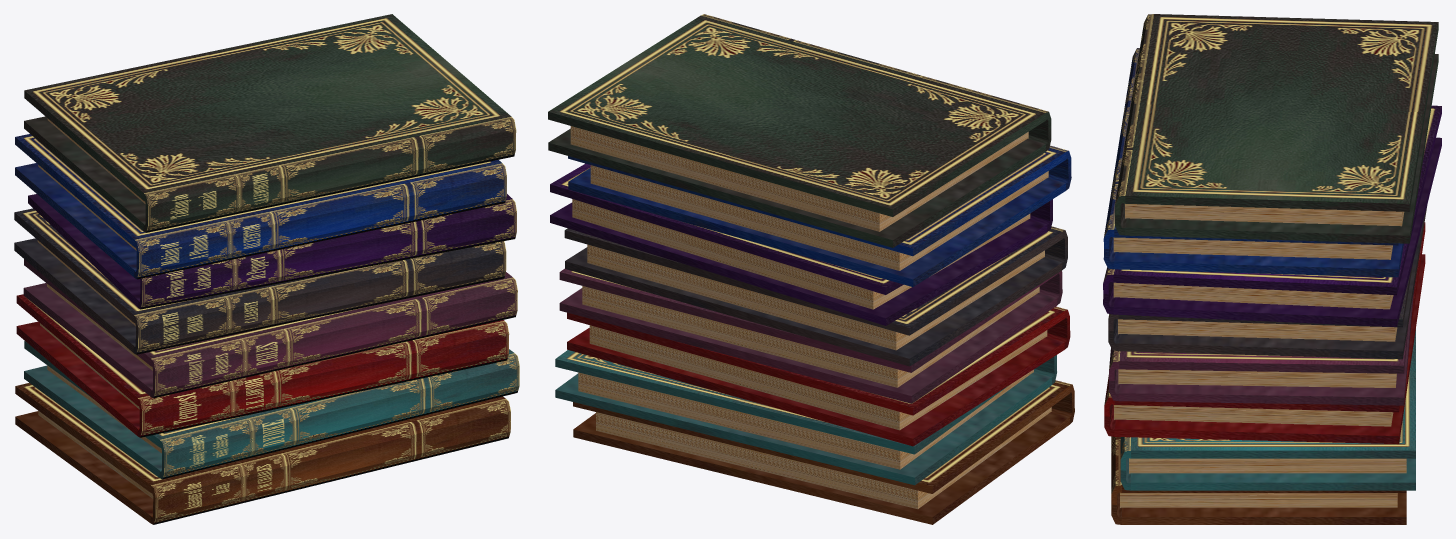
File: books.glb
3 views of the same model, side by side, from view 1: azimuth 30°, elevation 25°; view 2: azimuth 150°, elevation 25°; view 3: azimuth 270°, elevation 25° (orthographic). The views are drawn at different scales.
Visible parts, largest first — view 1: Box006, Box004, Box002, Box005, Box008, Box003, Box009, Box007; view 2: Box006, Box005, Box003, Box009, Box002, Box004, Box008, Box007; view 3: Box006, Box007, Box009, Box008, Box003, Box004, Box005, Box002.
Part boxes in pixels (x1,y1,x2,y2): Box006: (24,14,516,232); Box004: (15,134,506,279); Box002: (15,383,510,524); Box005: (14,208,506,354); Box008: (23,259,517,398); Box003: (16,294,509,437); Box009: (24,340,519,479); Box007: (28,194,516,309); Box006: (548,14,1051,247); Box005: (564,226,1067,366); Box003: (567,306,1070,446); Box009: (555,350,1056,485); Box002: (573,380,1074,524); Box004: (568,145,1071,286); Box008: (559,268,1062,403); Box007: (550,163,1052,325); Box006: (1115,14,1438,243); Box007: (1103,105,1441,326); Box009: (1120,329,1415,490); Box008: (1109,288,1414,405); Box003: (1104,222,1425,444); Box004: (1103,48,1403,277); Box005: (1108,205,1427,359); Box002: (1111,436,1406,524).
Size of the model in its own units: 54.54 by 42.39 by 39.07.
Materials: 8 (8 with a texture image).
